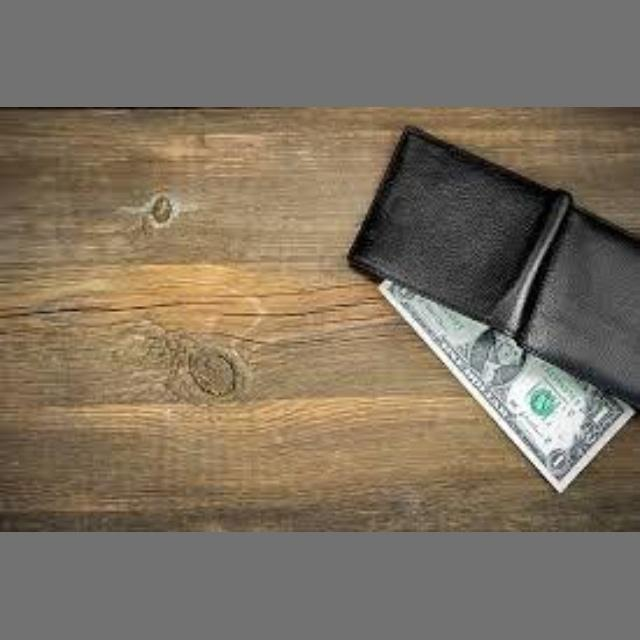Wallet: (351, 129, 640, 387)
